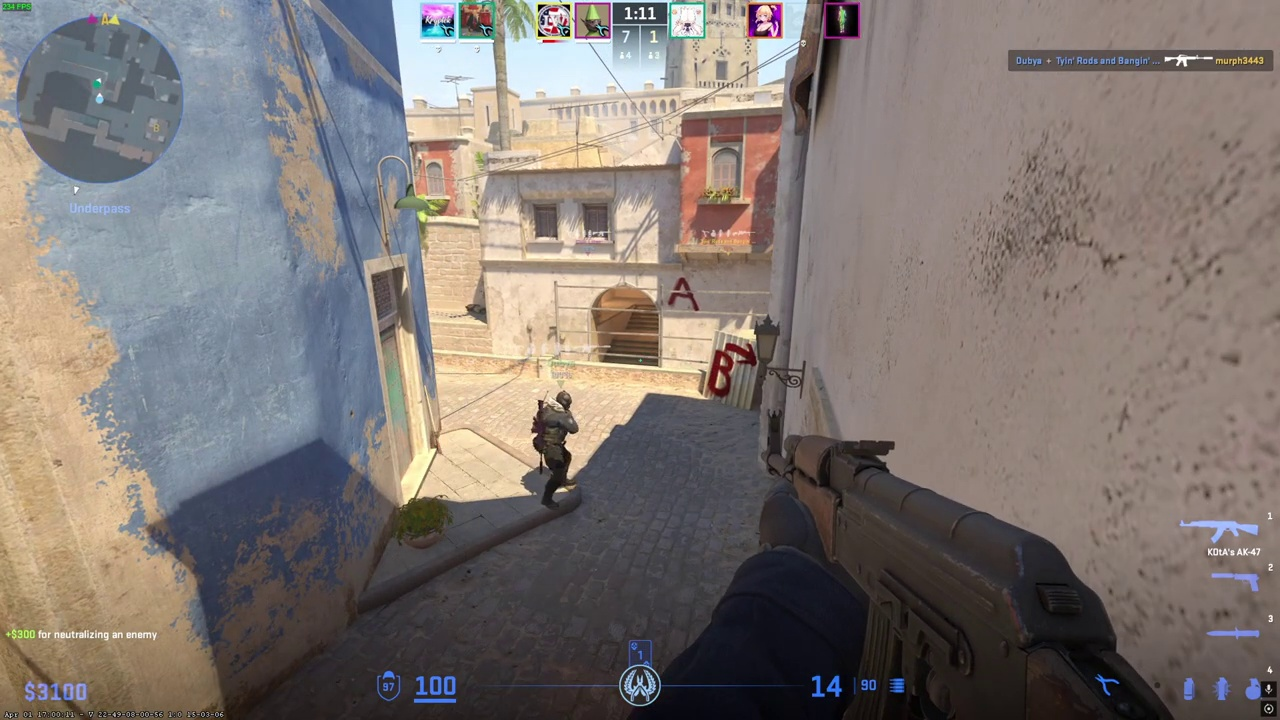CT: (532, 390, 579, 506)
